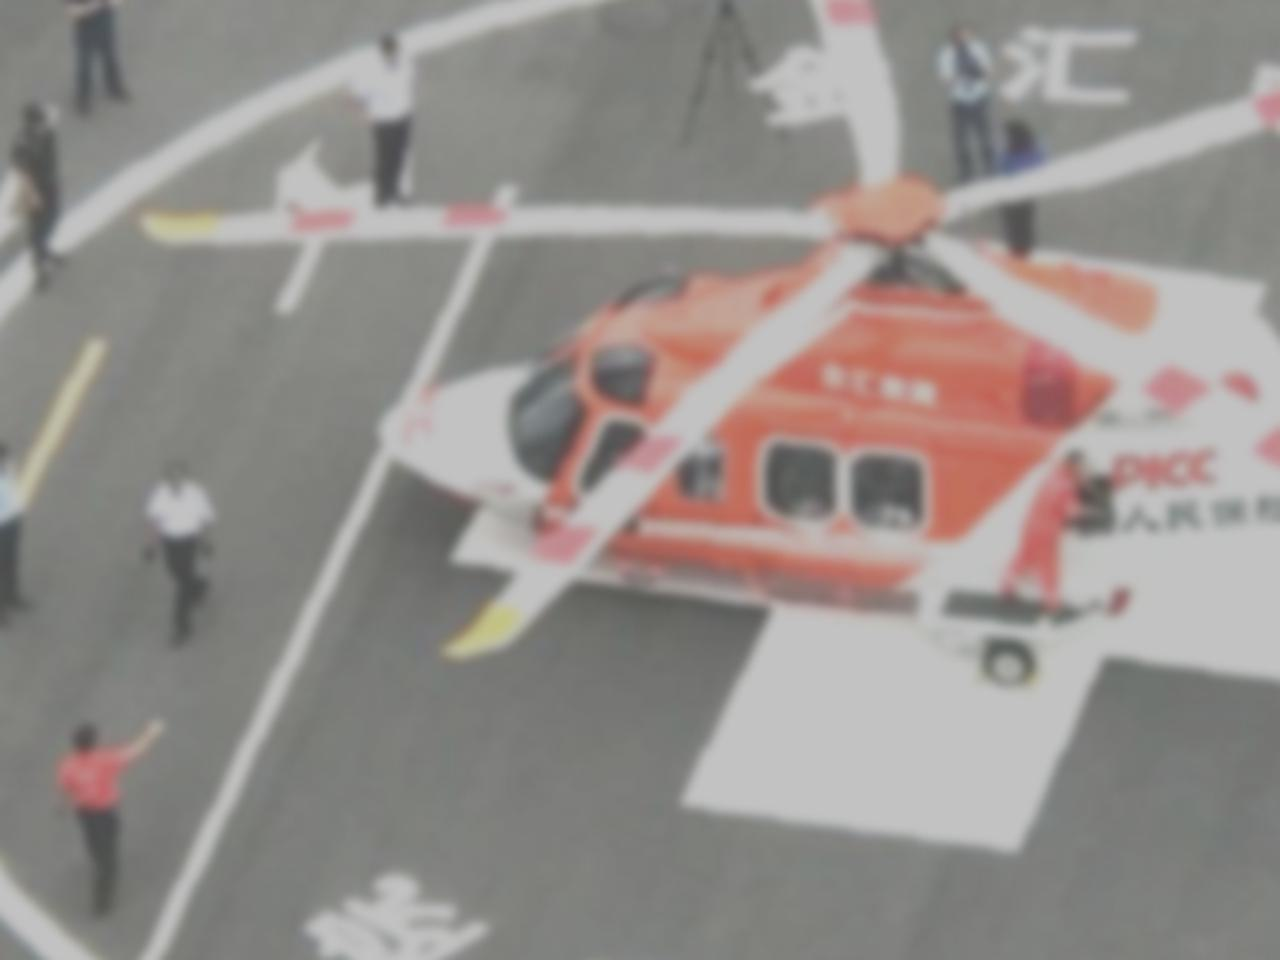Apron: (365, 55, 1280, 872)
